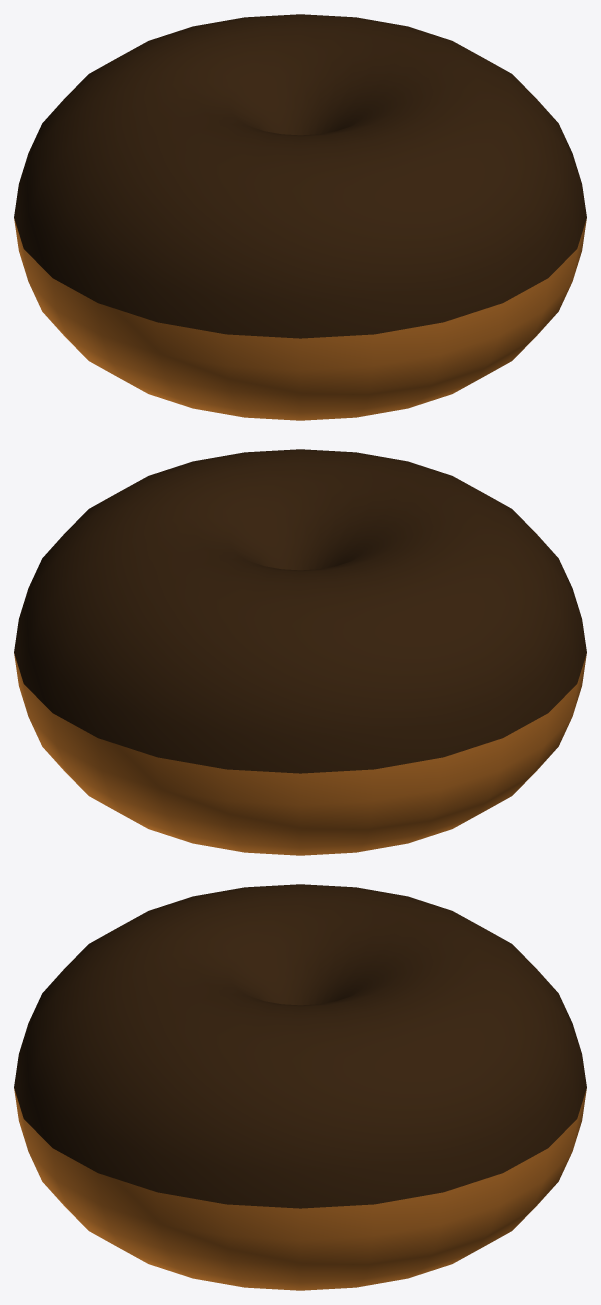
File: Donut.obj
3 renders of one model, top to bottom at view 1: azimuth 30°, elevation 25°; view 2: azimuth 150°, elevation 25°; view 3: azimuth 270°, elevation 25°, orthographic.
Visible parts, largest first — view 1: Mesh1 Model; view 2: Mesh1 Model; view 3: Mesh1 Model.
Boxes of the visible parts, x1,y1,x2,y2 form: Mesh1 Model: (14, 14, 586, 420); Mesh1 Model: (14, 449, 586, 855); Mesh1 Model: (14, 884, 586, 1290).
Bounding box in the file's own units: 3.41 × 1.71 × 3.41.
